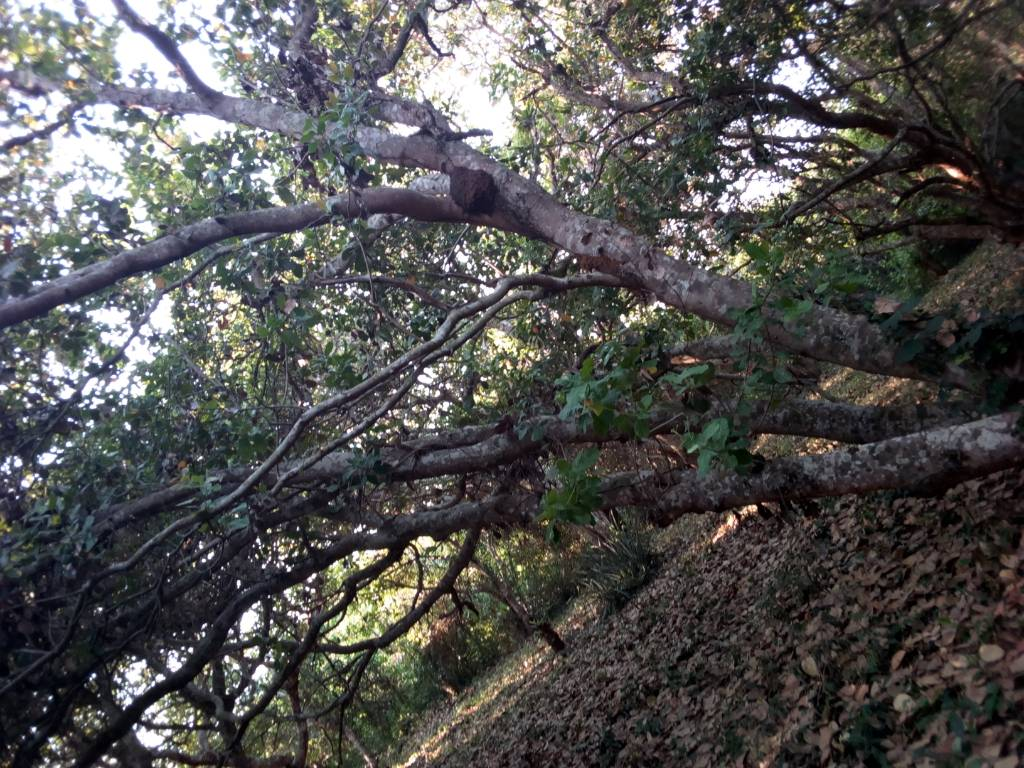Termites: (452, 163, 493, 214)
